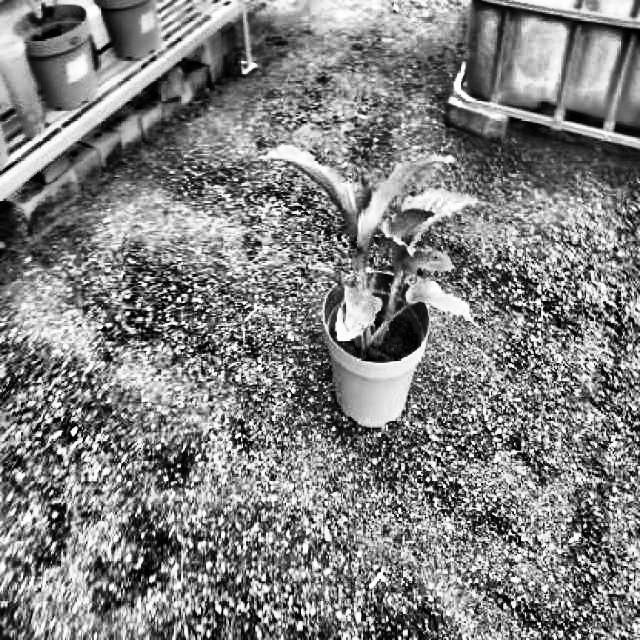plants: (257, 143, 485, 354)
